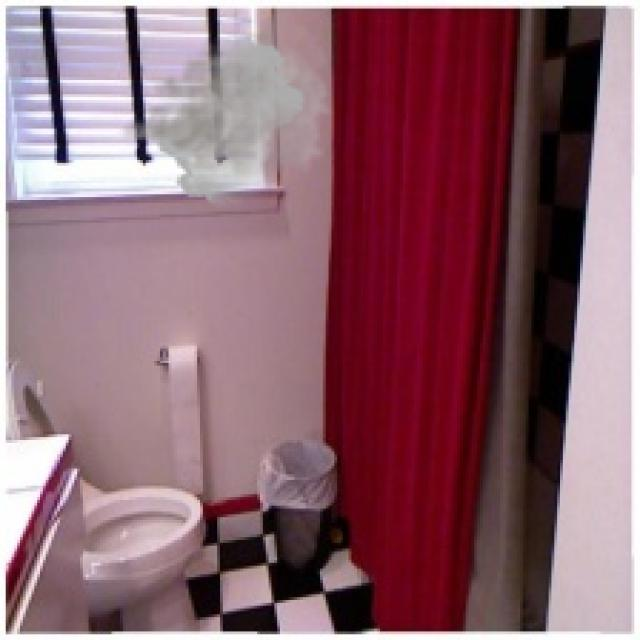smoke: (114, 8, 334, 208)
